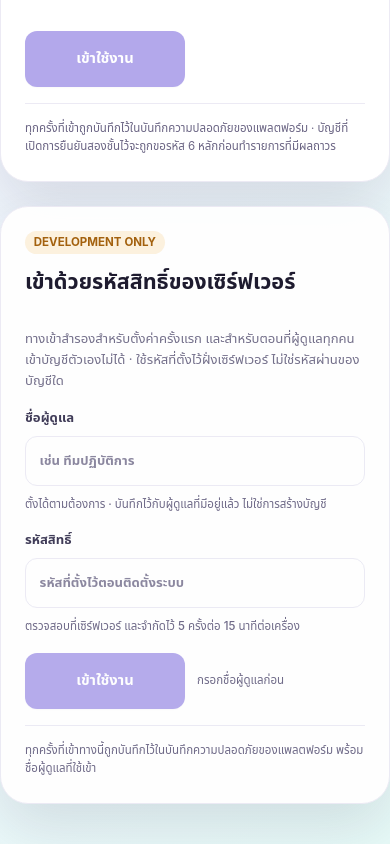
Test case: the code door beside it › explains why its button is waiting rather than only greying it out
(page scrolled)
Check: the button "เข้าใช้งาน" next to "กรอกชื่อผู้ดูแลก่อน" is disabled, box left=25, top=653, right=185, bottom=709
Check: the text "กรอกชื่อผู้ดูแลก่อน" is shown, box left=197, top=672, right=284, bottom=690
Type "ทีมปฏิบัติการ" into the field labelled "ชื่อผู้ดูแล" at (195, 461), box left=25, top=436, right=365, bottom=486
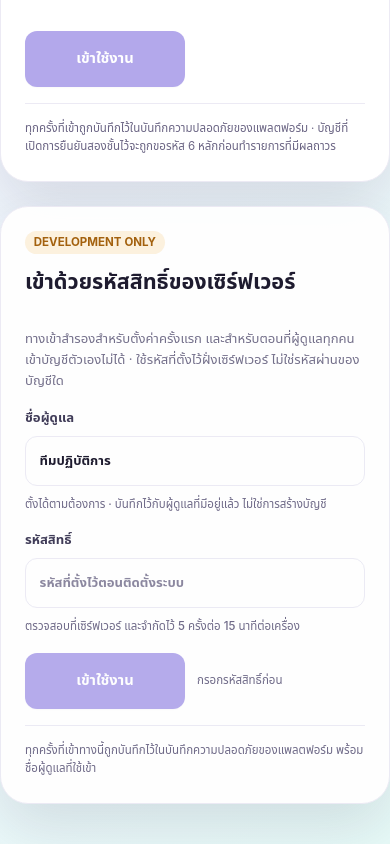
Check: the text "กรอกรหัสสิทธิ์ก่อน" is shown, box left=197, top=672, right=282, bottom=690
